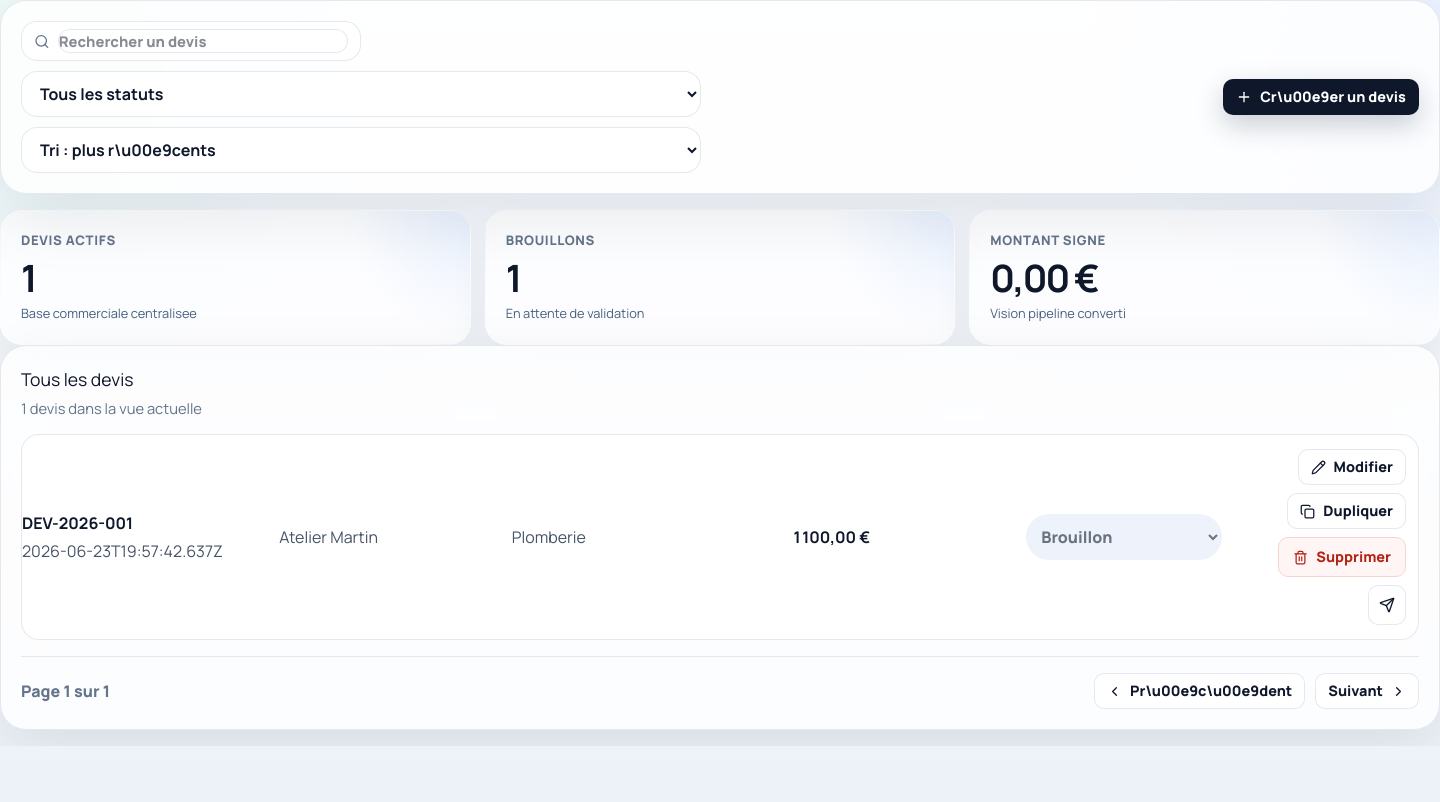
Test case: QuotesWorkspace › duplicates a quote and prepends it to the list
Click the button "Dupliquer". click: [1347, 511]
box: [1287,493,1406,529]
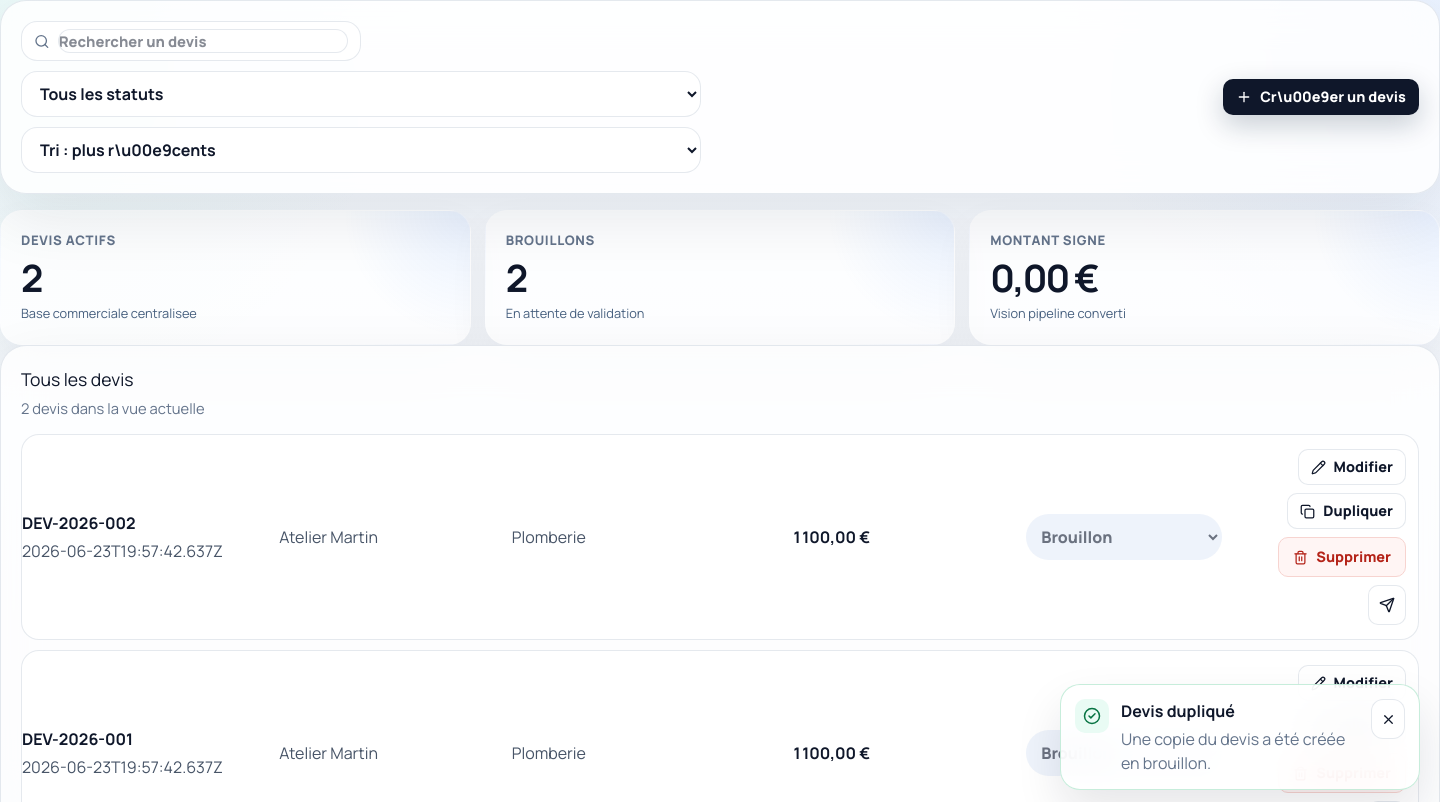
Expected: the text "DEV-2026-002" is shown, [22,512,136,534]
